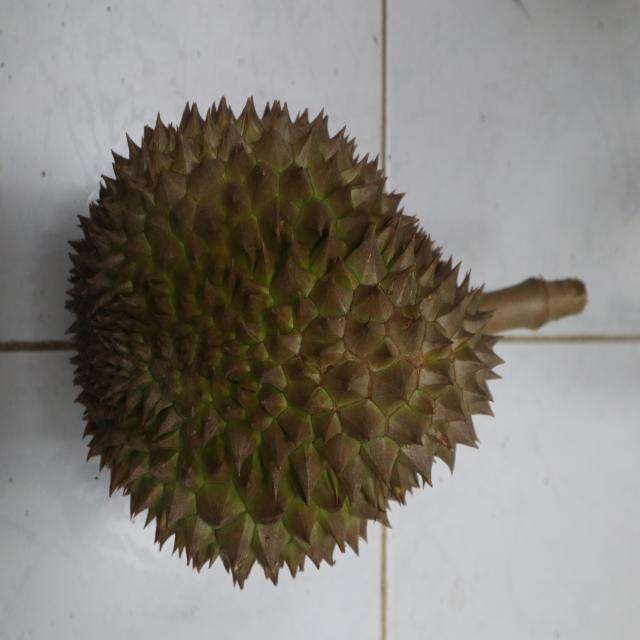mature: (63, 95, 502, 595)
